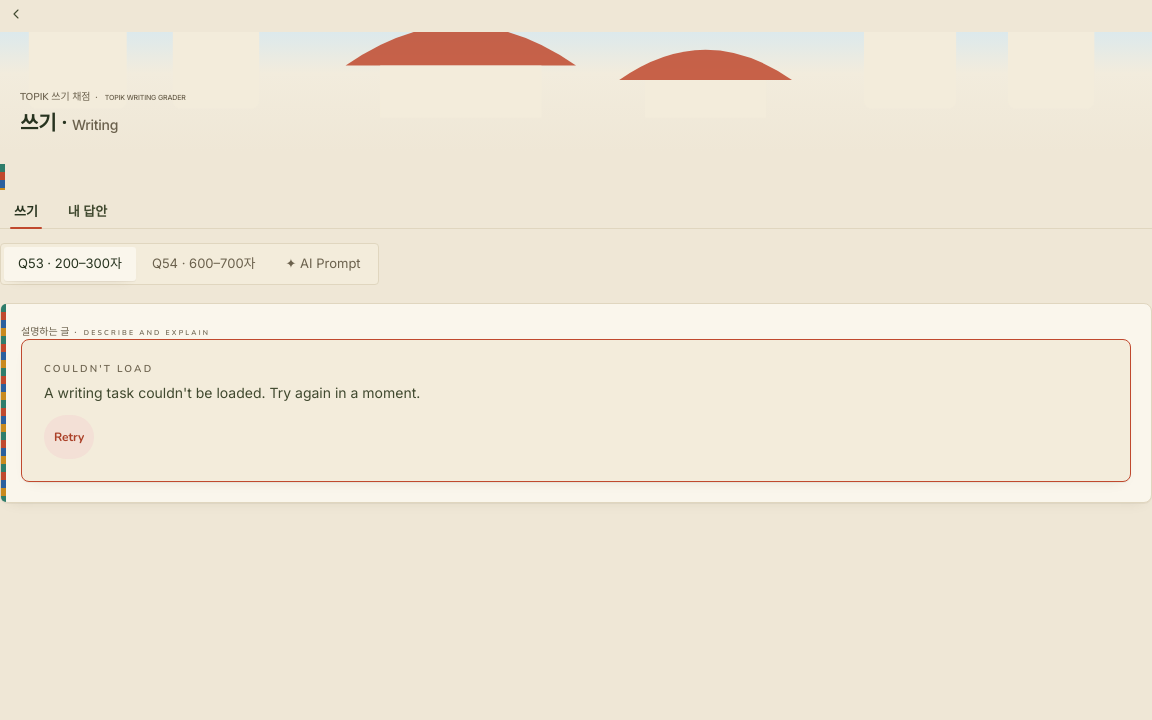
Test: Writing › surfaces a draw failure with a Retry that redraws
Expected: the message shows "writing task couldn't be loaded", [44,384,420,400]
Click the button "Retry" at (69,436), box [44,414,94,458]
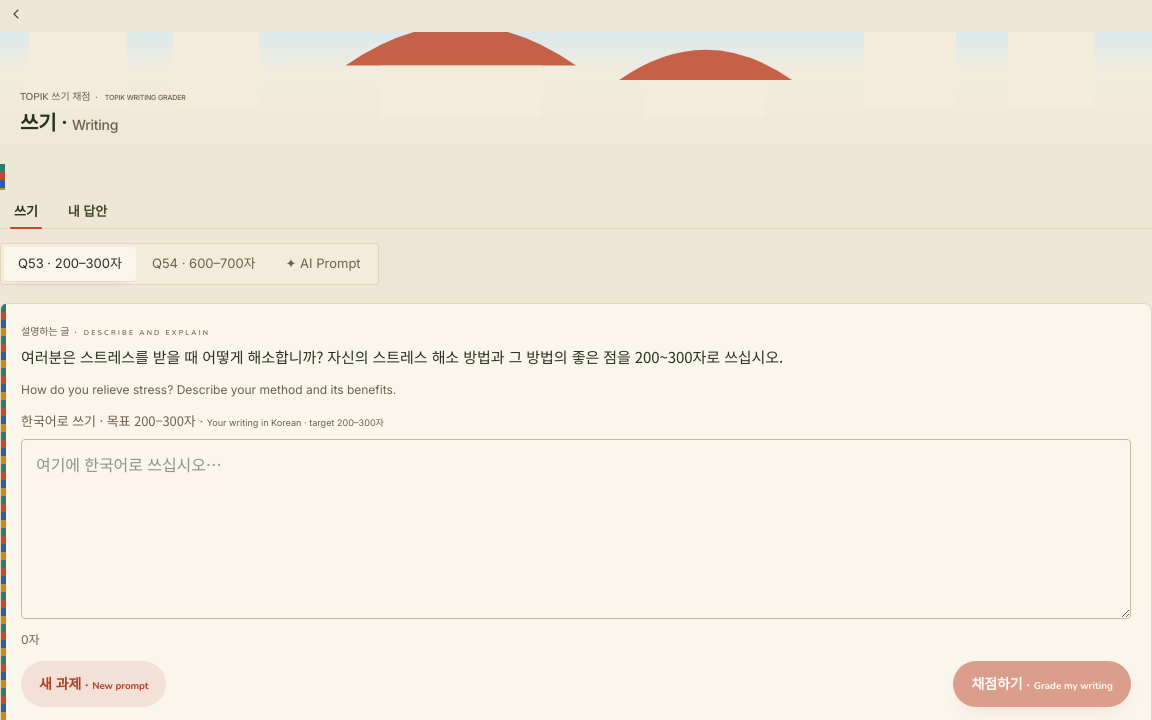
Now the text "스트레스 해소 방법" is shown, box [21,346,783,366]
